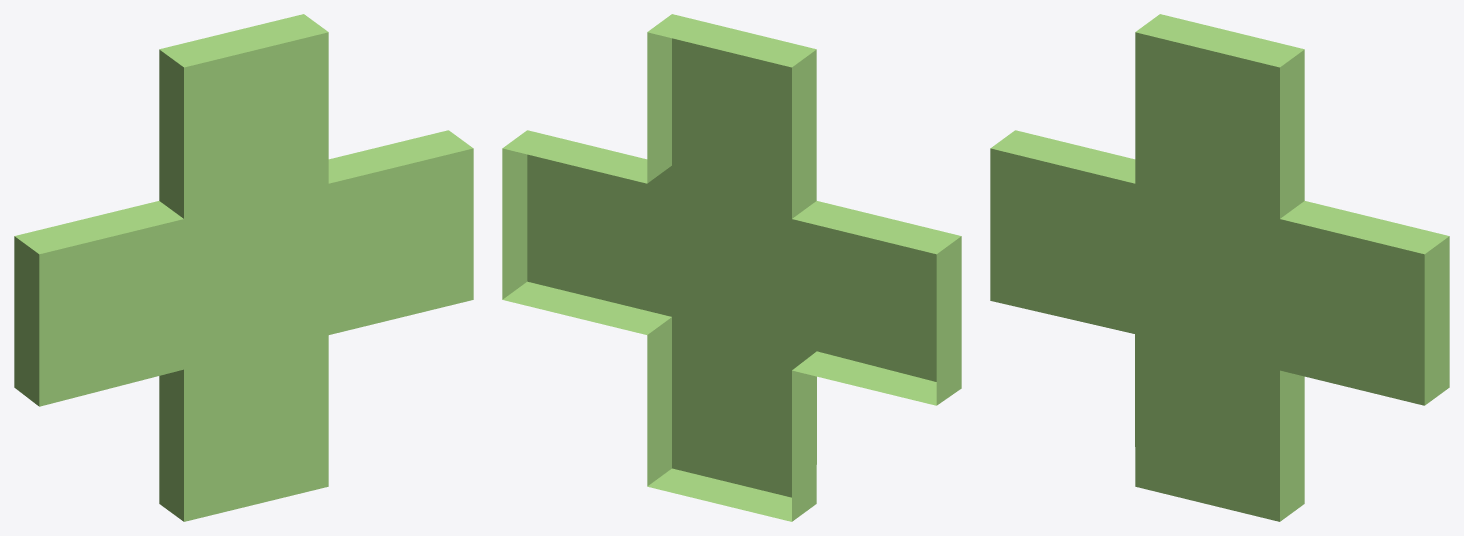
The picture shows the model from 3 angles, left to right: view 1: azimuth 30°, elevation 25°; view 2: azimuth 150°, elevation 25°; view 3: azimuth 330°, elevation 25°; orthographic projection.
Visible parts, largest first — view 1: Untitled; view 2: Untitled; view 3: Untitled.
Part boxes in pixels (x1,y1,x2,y2): Untitled: (14, 14, 473, 521); Untitled: (502, 14, 961, 521); Untitled: (990, 14, 1449, 521).
Bounding box in the file's own units: 129 × 129 × 12.86.
